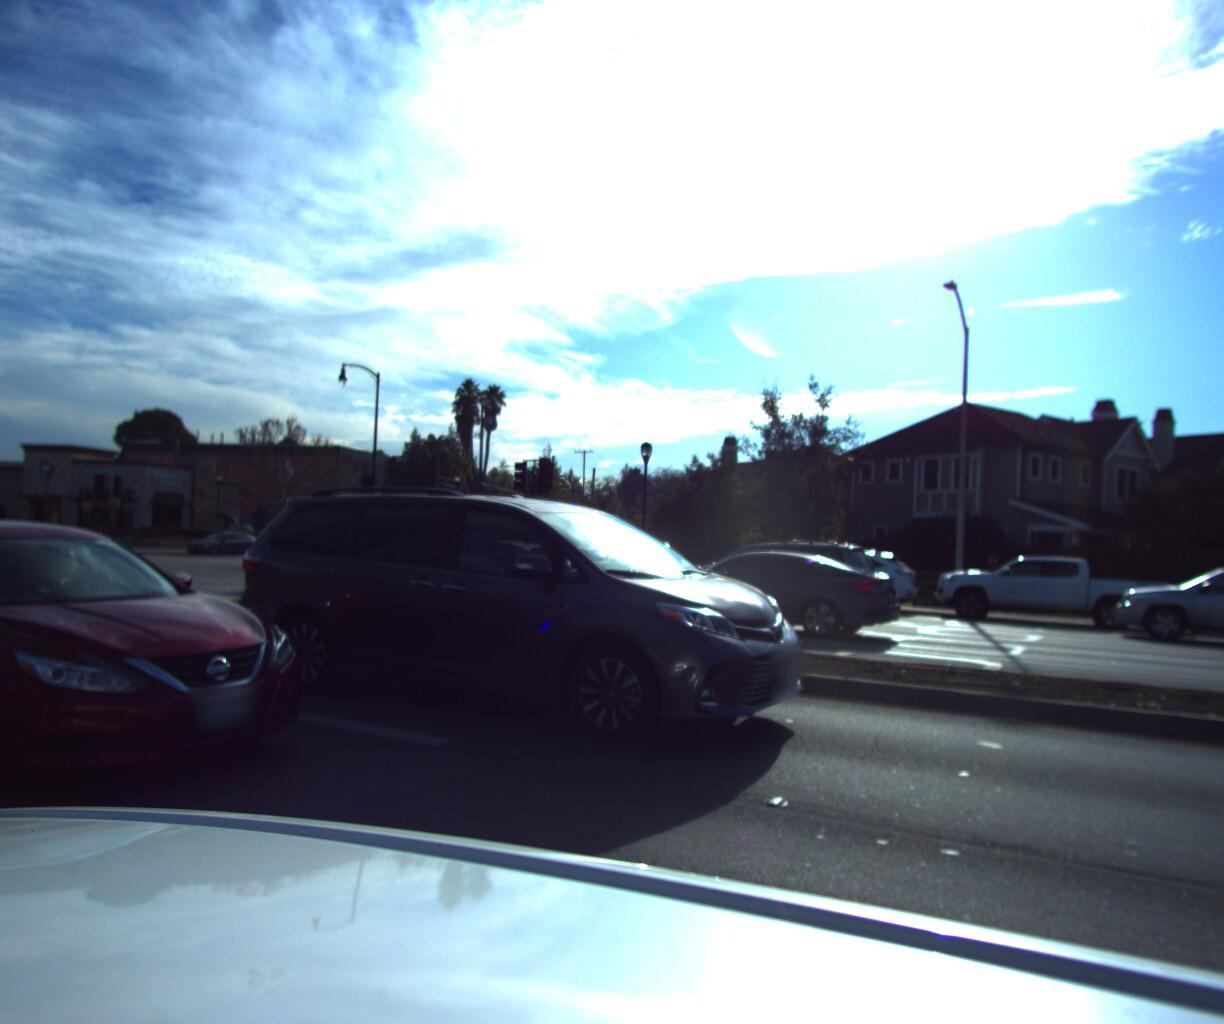car: (225, 474, 837, 772), (0, 496, 382, 881), (609, 539, 911, 653), (927, 543, 1181, 637), (663, 530, 888, 621), (731, 537, 922, 617), (1103, 550, 1224, 661), (0, 511, 89, 560), (1200, 534, 1224, 711)
